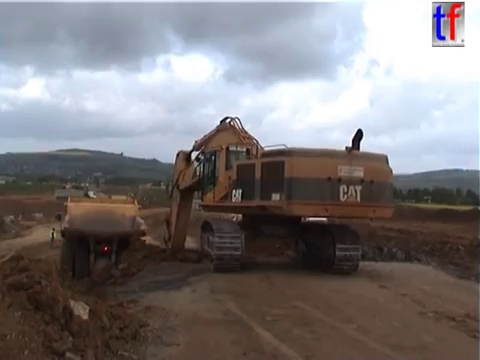excavator: (145, 114, 397, 290)
truck: (55, 193, 149, 281), (53, 187, 99, 203), (59, 183, 89, 197)
worker: (47, 225, 58, 250)
